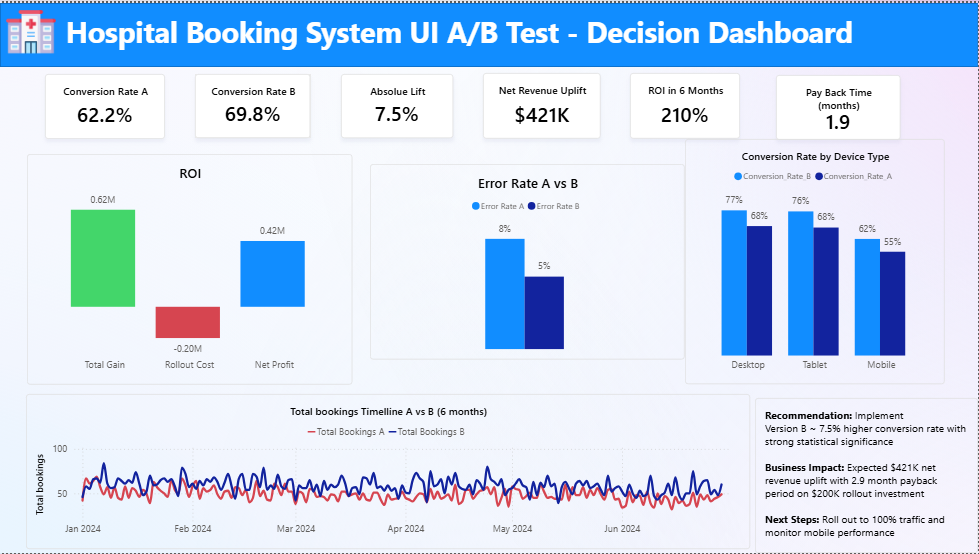

What the dashboard file says about the page in this screenshot:
{"tool":"powerbi","page":{"name":"Dashboard","canvas":[1280,720],"ordinal":0},"visuals":[{"type":"card","title":"Conversion Rate A","fields":{"Values":["AB_testing.Conversion Rate A"]},"box":[59,92.5,157,85],"z":0},{"type":"card","title":"Conversion Rate B","fields":{"Values":["AB_testing.Conversion Rate B"]},"box":[255.3,93.2,151.2,83.5],"z":1000},{"type":"card","title":"Absolue Lift","fields":{"Values":["AB_testing.Absolute Lift"]},"box":[445.8,93.2,146.9,83.5],"z":2000},{"type":"card","title":"ROI in 6 Months","fields":{"Values":["AB_testing.ROI_Rollout_Percent"]},"box":[825.3,91.7,144,86.4],"z":3000},{"type":"card","title":"Net Revenue Uplift","fields":{"Values":["AB_testing.Net_Revenue_Uplift"]},"box":[631.9,91.7,154.1,86.4],"z":4000},{"type":"shape","box":[0,0,1280.3,83.8],"z":5000},{"type":"textbox","box":[80.6,7.2,1199.5,67.7],"z":6000},{"type":"card","title":"Pay Back Time (months)","fields":{"Values":["AB_testing.Payback Time (Months)"]},"box":[1015.2,93.6,162.7,85],"z":7000},{"type":"lineChart","title":"Total bookings Timelline A vs B  (6 months)","fields":{"Y":["AB_testing.Total Bookings A","AB_testing.Total Bookings B"],"Category":["AB_testing.timestamp.Variation.Date Hierarchy.Year","AB_testing.timestamp.Variation.Date Hierarchy.Month","AB_testing.timestamp.Variation.Date Hierarchy.Day"]},"box":[34.6,511.2,947.5,203],"z":8000},{"type":"clusteredColumnChart","title":"Conversion Rate by Device Type","fields":{"Category":["AB_testing.device_type"],"Y":["AB_testing.Conversion_Rate_B","AB_testing.Conversion_Rate_A"]},"box":[897.1,178.6,339.8,321.1],"z":9000},{"type":"textbox","box":[987.8,517,292.3,203],"z":10000},{"type":"clusteredColumnChart","title":"ROI","fields":{"Category":["Waterfall Categories.Category"],"Y":["AB_testing.Waterfall Values"]},"box":[34.7,197.7,425.7,301.9],"z":11000},{"type":"image","box":[0,0,80.6,74.9],"z":12000},{"type":"clusteredColumnChart","title":"Error Rate A vs B","fields":{"Y":["AB_testing.Error Rate A","AB_testing.Error Rate B"]},"box":[484.7,210.6,412,256],"z":13000}]}

Visuals, with their boxes in screenshot pixels (x1, y1, x2, y2), scaled from the page's 1280x720 canvas onto the 979x554 screenshot:
"Conversion Rate A" card: l=45, t=71, r=165, b=137
"Conversion Rate B" card: l=195, t=72, r=311, b=136
"Absolue Lift" card: l=341, t=72, r=453, b=136
"ROI in 6 Months" card: l=631, t=71, r=741, b=137
"Net Revenue Uplift" card: l=483, t=71, r=601, b=137
shape: l=0, t=0, r=978, b=64
textbox: l=62, t=6, r=978, b=58
"Pay Back Time (months)" card: l=776, t=72, r=901, b=137
"Total bookings Timelline A vs B  (6 months)" lineChart: l=26, t=393, r=751, b=550
"Conversion Rate by Device Type" clusteredColumnChart: l=686, t=137, r=946, b=384
textbox: l=756, t=398, r=978, b=553
"ROI" clusteredColumnChart: l=27, t=152, r=352, b=384
image: l=0, t=0, r=62, b=58
"Error Rate A vs B" clusteredColumnChart: l=371, t=162, r=686, b=359
